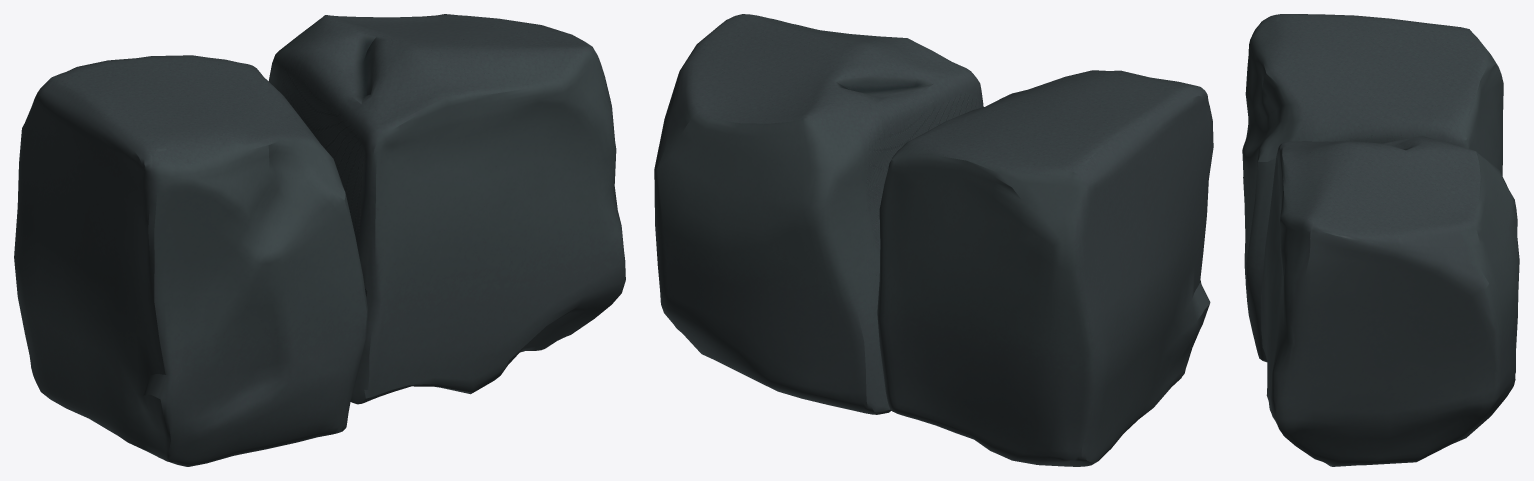
Rendered from brick_half_dungeon.glb.
3 renders of one model, left to right at view 1: azimuth 30°, elevation 25°; view 2: azimuth 150°, elevation 25°; view 3: azimuth 270°, elevation 25°, orthographic. The views are drawn at different scales.
Parts seen in each view (by area): view 1: Mesh_0; view 2: Mesh_0; view 3: Mesh_0.
Boxes of the visible parts, <box> form: Mesh_0: <box>14,14,625,466</box>; Mesh_0: <box>654,14,1213,466</box>; Mesh_0: <box>1242,14,1519,466</box>.
Bounding box in the file's own units: 1.9 × 1.21 × 1.08.
1 material, 1 textured.
